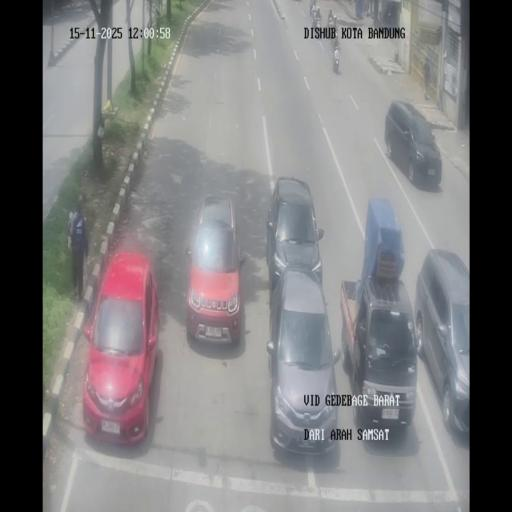car: (82, 252, 160, 444), (266, 266, 340, 457), (414, 252, 469, 440), (385, 100, 442, 188)
truck: (332, 39, 340, 72), (313, 12, 322, 34), (328, 9, 336, 32), (362, 1, 370, 17), (384, 8, 392, 24), (310, 0, 316, 17), (378, 10, 384, 23)
